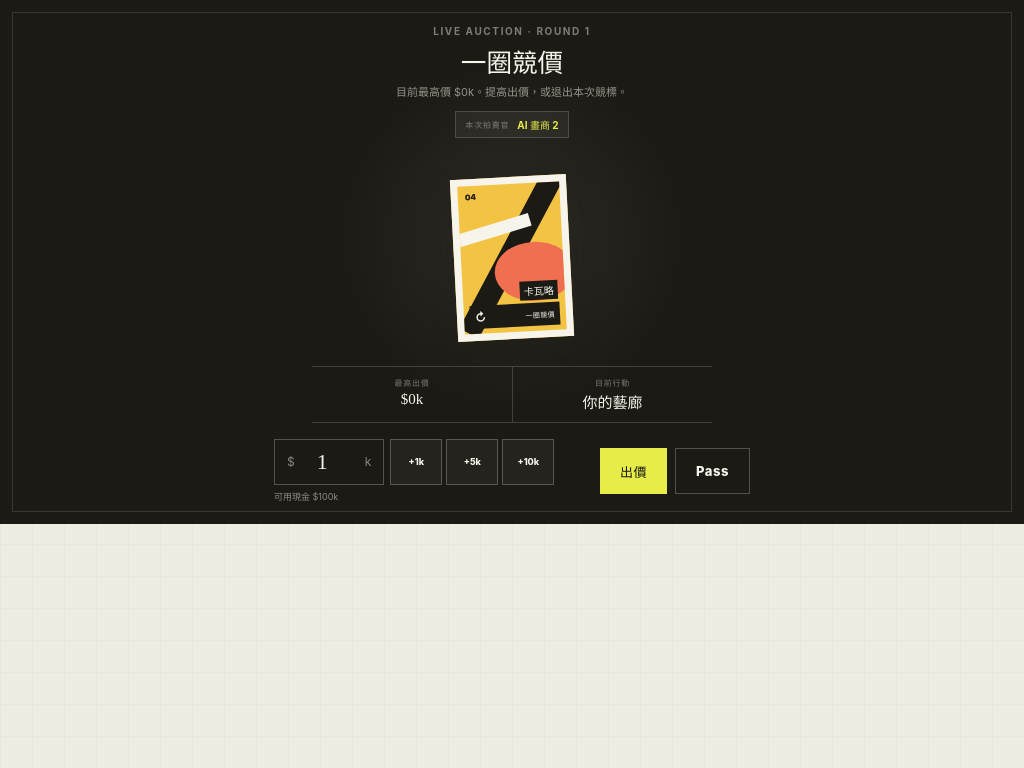
AuctionStage › offers quick bid buttons and blocks an amount above the player cash
Expected: the number field named "輸入出價金額" holds "1", [295,448,365,476]
Click the button "+10k" at (528,462), box [502,438,554,484]
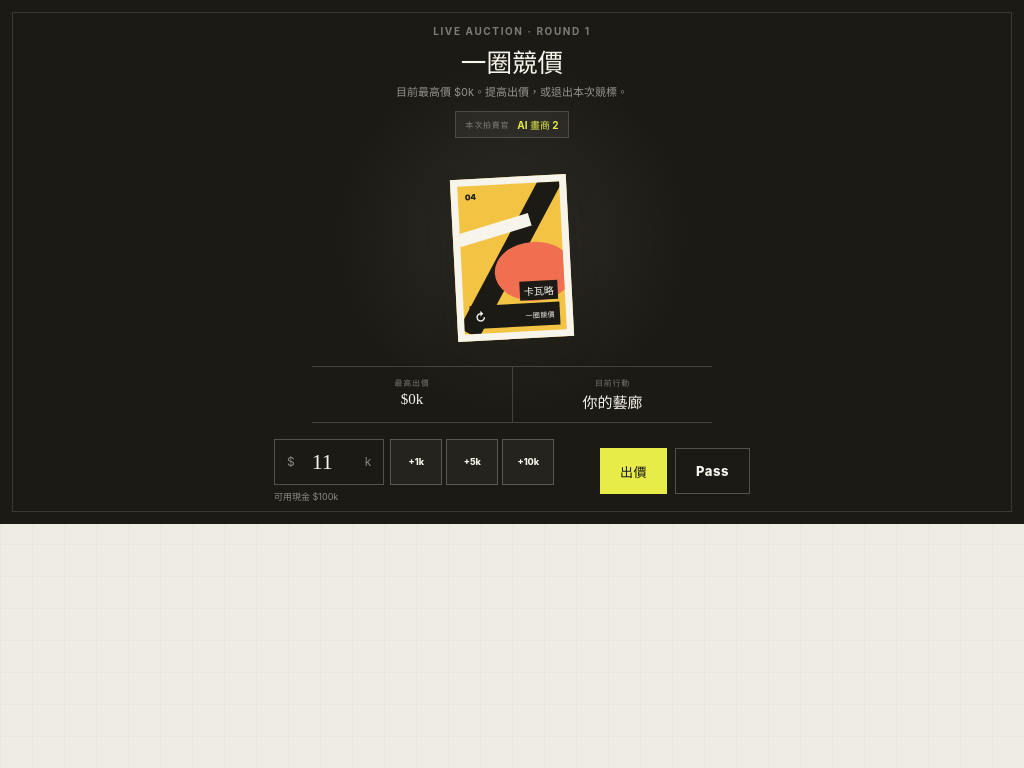
Expected: the number field named "輸入出價金額" holds "11"
Replace the text in the number field named "輸入出價金額" with "101" at (330,462), box [295,448,365,476]
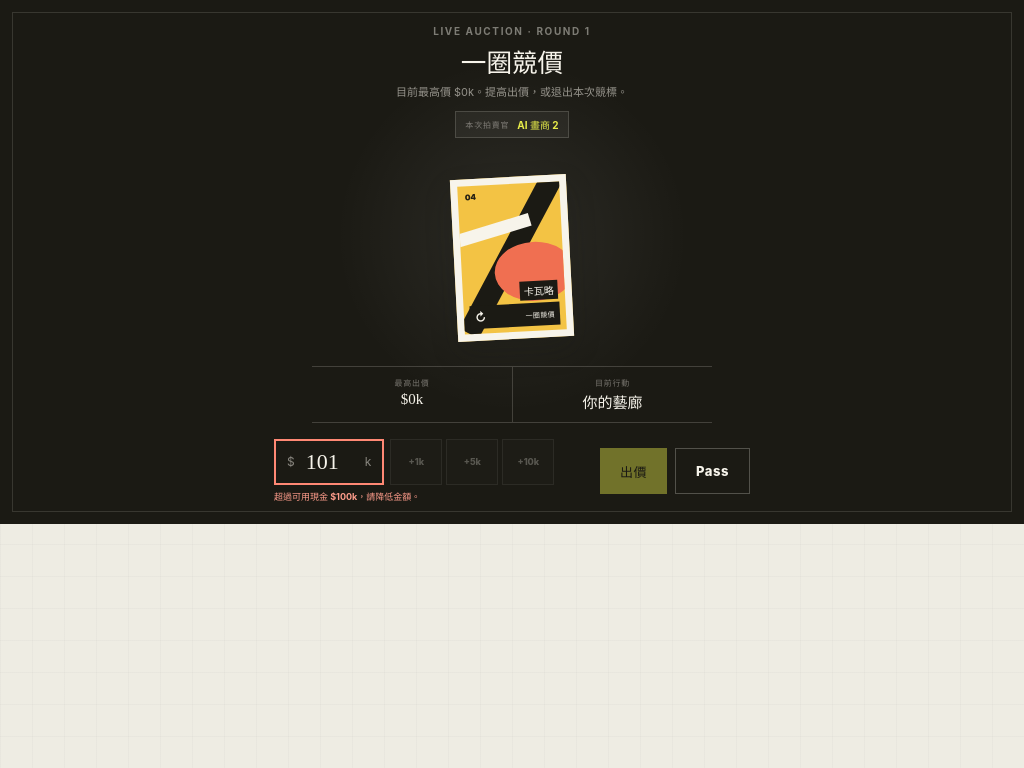
Expected: the text "超過可用現金 $100k" is shown, [274,490,420,502]
Expected: the button with class "button--primary" is disabled, [600,448,667,494]
